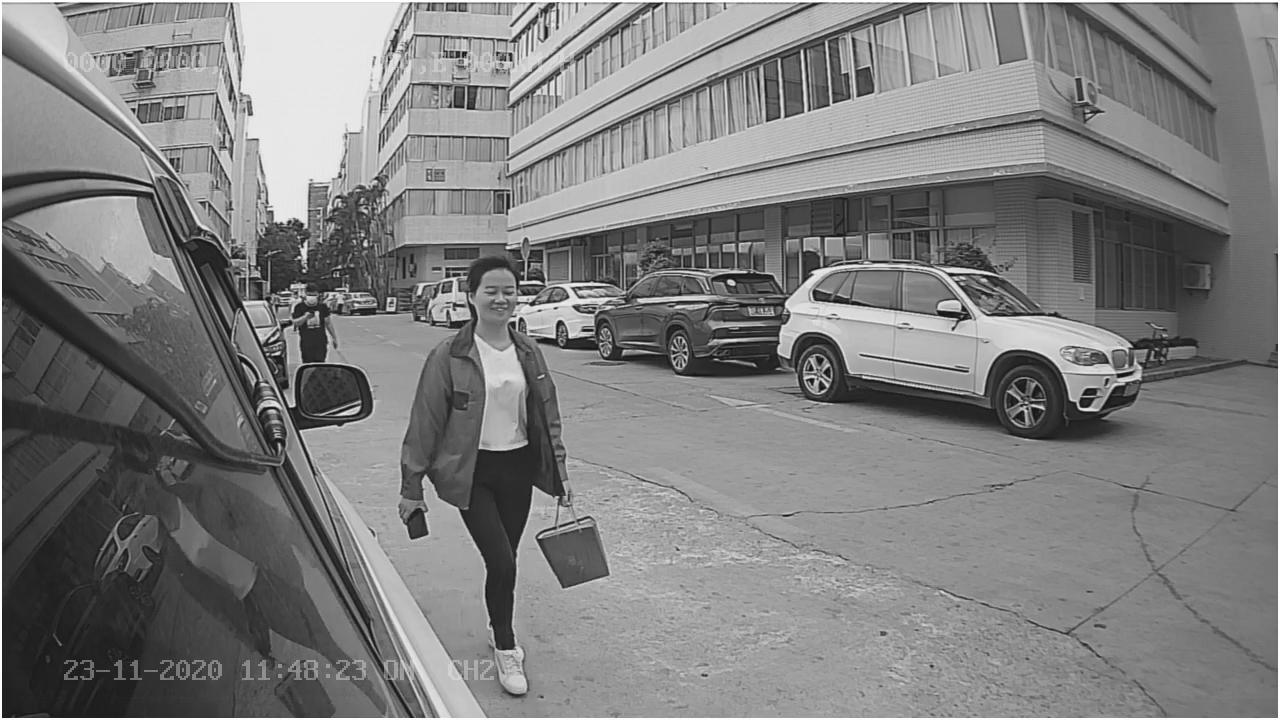person: (392, 236, 575, 542)
